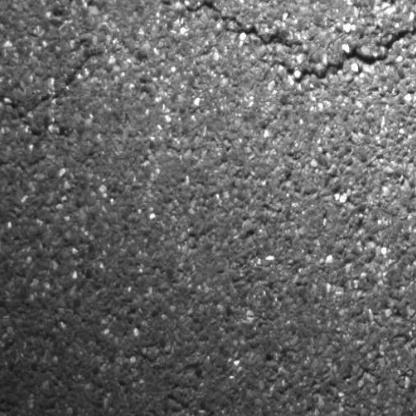Cracks: (85, 0, 416, 88), (23, 45, 109, 119)
